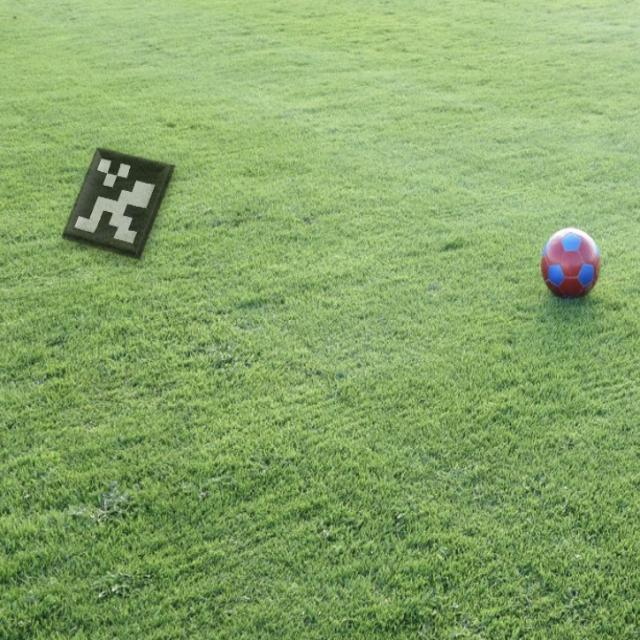marker: (56, 138, 183, 268)
